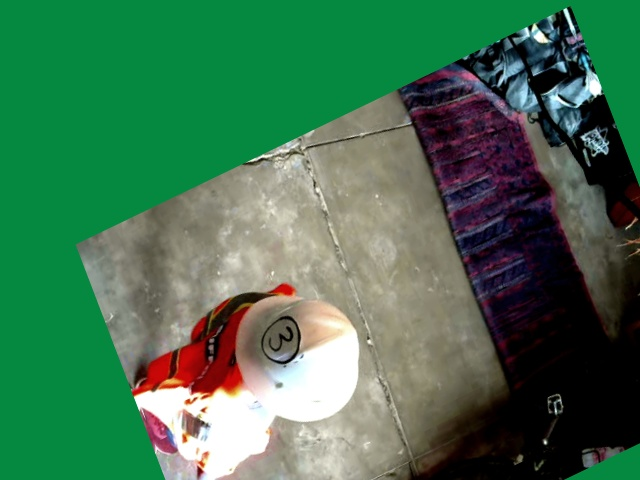three: (254, 310, 309, 371)
